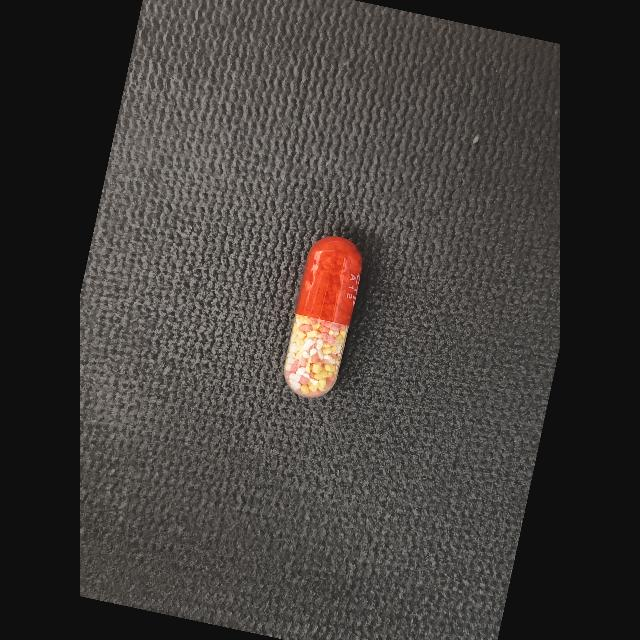Intact Capsule: (284, 236, 362, 398)
